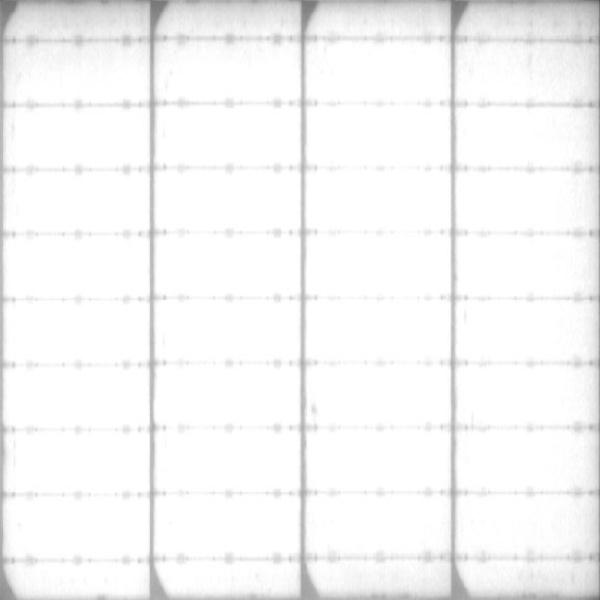hot_spot: (14, 493, 146, 554), (10, 107, 148, 165), (159, 107, 296, 165), (6, 437, 149, 491), (13, 175, 145, 230), (159, 238, 295, 291), (160, 302, 296, 355), (316, 494, 447, 549), (158, 368, 295, 420), (161, 172, 295, 225), (15, 301, 145, 355), (11, 240, 145, 292), (164, 434, 295, 487), (10, 371, 145, 422), (316, 173, 448, 225), (315, 366, 445, 418), (463, 239, 589, 292), (463, 434, 589, 487), (316, 304, 444, 356), (318, 433, 445, 485), (309, 52, 443, 101), (318, 239, 444, 291), (159, 503, 294, 551), (467, 175, 586, 227), (471, 370, 585, 422), (467, 306, 585, 356), (463, 112, 574, 165), (317, 114, 440, 161), (468, 501, 582, 549)
